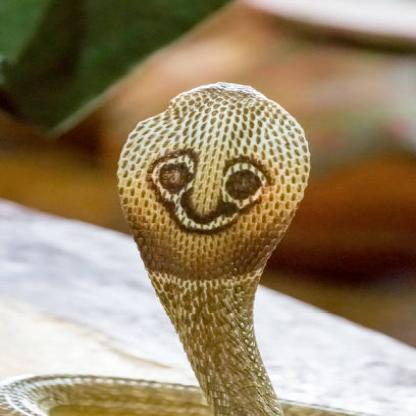Snake: (0, 83, 338, 416)
